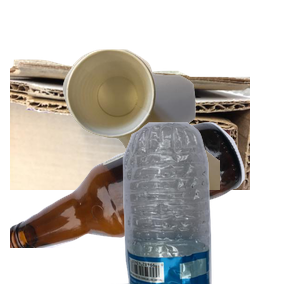cardboard: (10, 57, 250, 237)
glass: (10, 120, 247, 300)
plastic: (111, 120, 300, 300)
trash: (60, 47, 300, 227)
